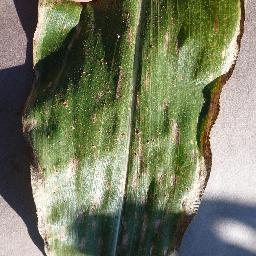Gray_Leaf_Spot: (70, 144, 169, 256), (169, 87, 234, 255), (17, 0, 54, 256), (222, 0, 250, 88), (111, 8, 138, 52), (159, 22, 185, 58), (55, 0, 126, 9), (109, 64, 124, 104), (134, 92, 142, 145), (141, 69, 154, 92), (147, 128, 162, 144), (212, 9, 220, 38), (58, 96, 73, 111), (113, 130, 127, 146), (92, 90, 110, 101), (89, 112, 101, 122)
